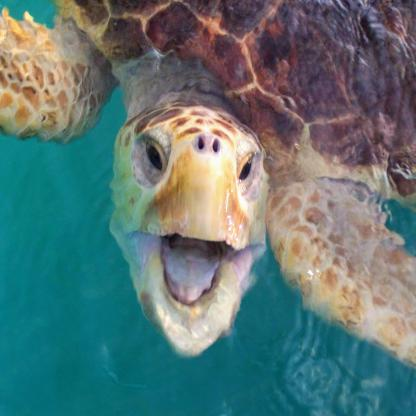turtle: (101, 92, 278, 365)
